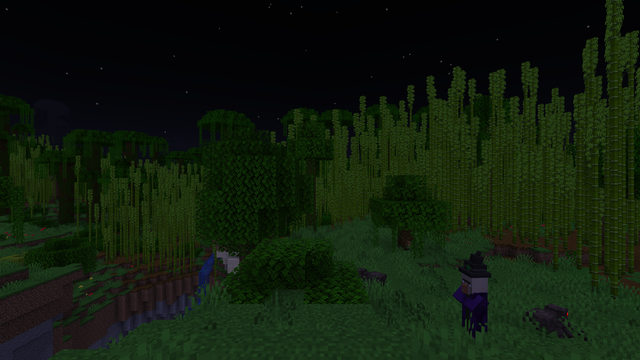araignees: (516, 298, 588, 343), (358, 265, 383, 292)
sorcieres: (458, 267, 490, 343)
